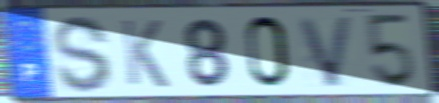0: (243, 14, 293, 91)
5: (362, 12, 419, 90)
8: (182, 16, 232, 90)
K: (118, 17, 171, 90)
S: (50, 13, 113, 95)
V: (295, 13, 357, 90)
